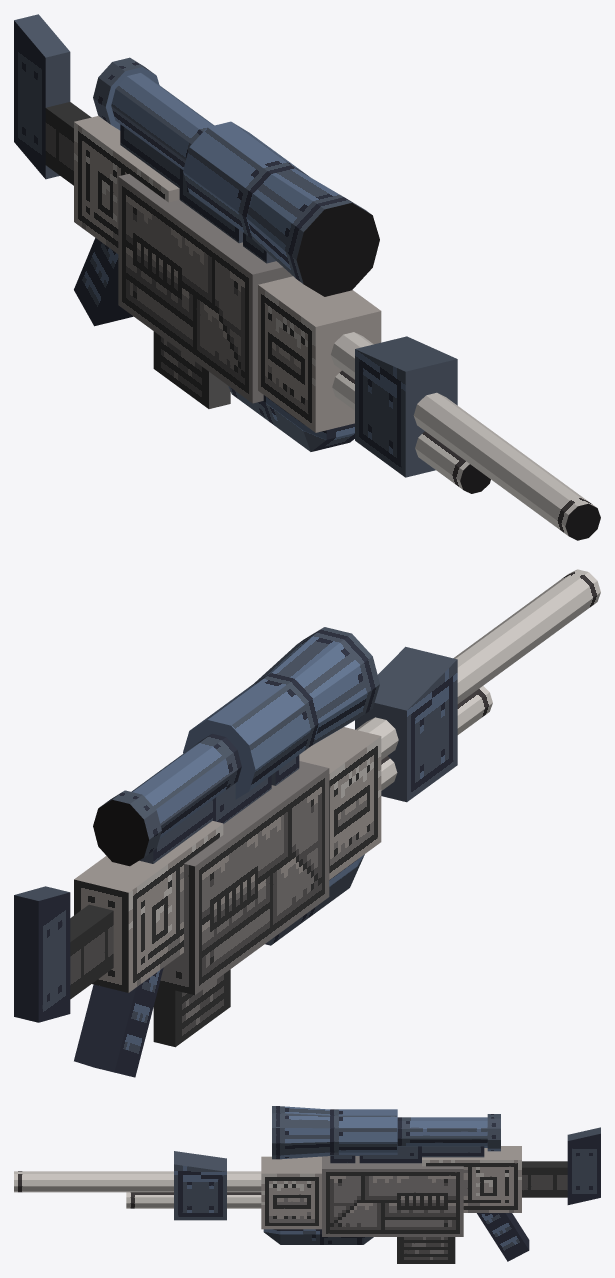
Rendered from SniperRifle.gltf.
3 views of the same model, one above another, from view 1: azimuth 30°, elevation 25°; view 2: azimuth 150°, elevation 25°; view 3: azimuth 270°, elevation 25° (orthographic). The views are drawn at different scales.
Parts seen in each view (by area): view 1: Body (×5), Scope, Barrel (×2), Butt, Handle, Magazine, Grip, Stock; view 2: Body (×5), Scope, Barrel (×2), Butt, Handle, Magazine, Stock, Grip; view 3: Body (×6), Scope, Barrel (×2), Butt, Stock, Magazine, Handle, Grip.
Boxes of the visible parts, left/top/right/bottom form: Body (×5): left=74, top=116, right=457, bottom=477; Scope: left=93, top=57, right=379, bottom=296; Barrel (×2): left=331, top=332, right=600, bottom=540; Butt: left=14, top=14, right=70, bottom=179; Handle: left=74, top=238, right=133, bottom=326; Magazine: left=153, top=331, right=230, bottom=408; Grip: left=228, top=386, right=354, bottom=451; Stock: left=45, top=102, right=91, bottom=185; Body (×5): left=74, top=646, right=457, bottom=995; Scope: left=93, top=627, right=379, bottom=866; Barrel (×2): left=356, top=569, right=600, bottom=790; Butt: left=14, top=886, right=70, bottom=1022; Handle: left=74, top=967, right=163, bottom=1077; Magazine: left=153, top=969, right=230, bottom=1047; Stock: left=70, top=904, right=113, bottom=999; Grip: left=265, top=854, right=364, bottom=945; Body (×6): left=174, top=1146, right=521, bottom=1236; Scope: left=272, top=1106, right=500, bottom=1159; Barrel (×2): left=14, top=1171, right=261, bottom=1208; Butt: left=567, top=1127, right=600, bottom=1204; Stock: left=522, top=1161, right=567, bottom=1197; Magazine: left=397, top=1237, right=455, bottom=1263; Handle: left=477, top=1213, right=529, bottom=1261; Grip: left=263, top=1229, right=373, bottom=1244.
Size of the model in its own units: 0.1909 by 0.6268 by 2.2.
1 material, 1 textured.
